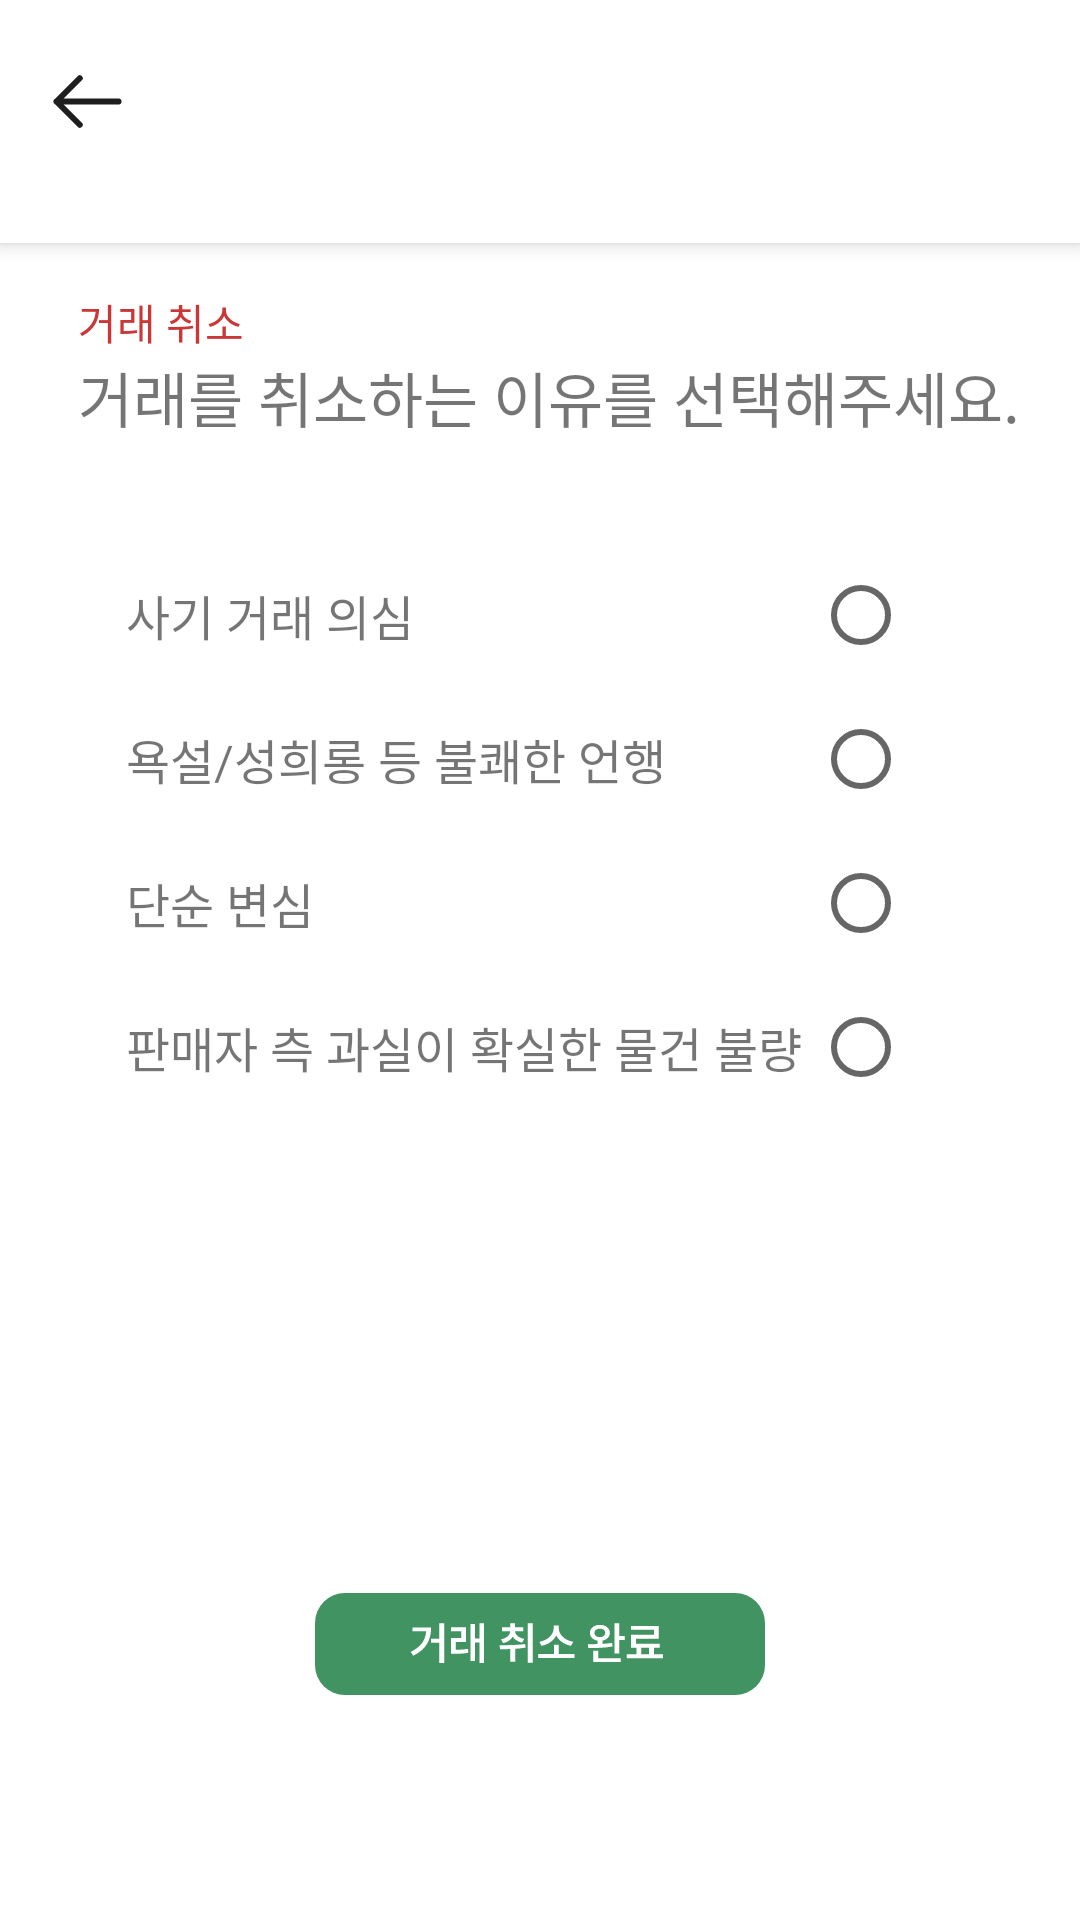

Icons on this 1080 × 1920 Android screen, each with the point to tap as point (x, y):
뒤로가기: point (87, 101)
